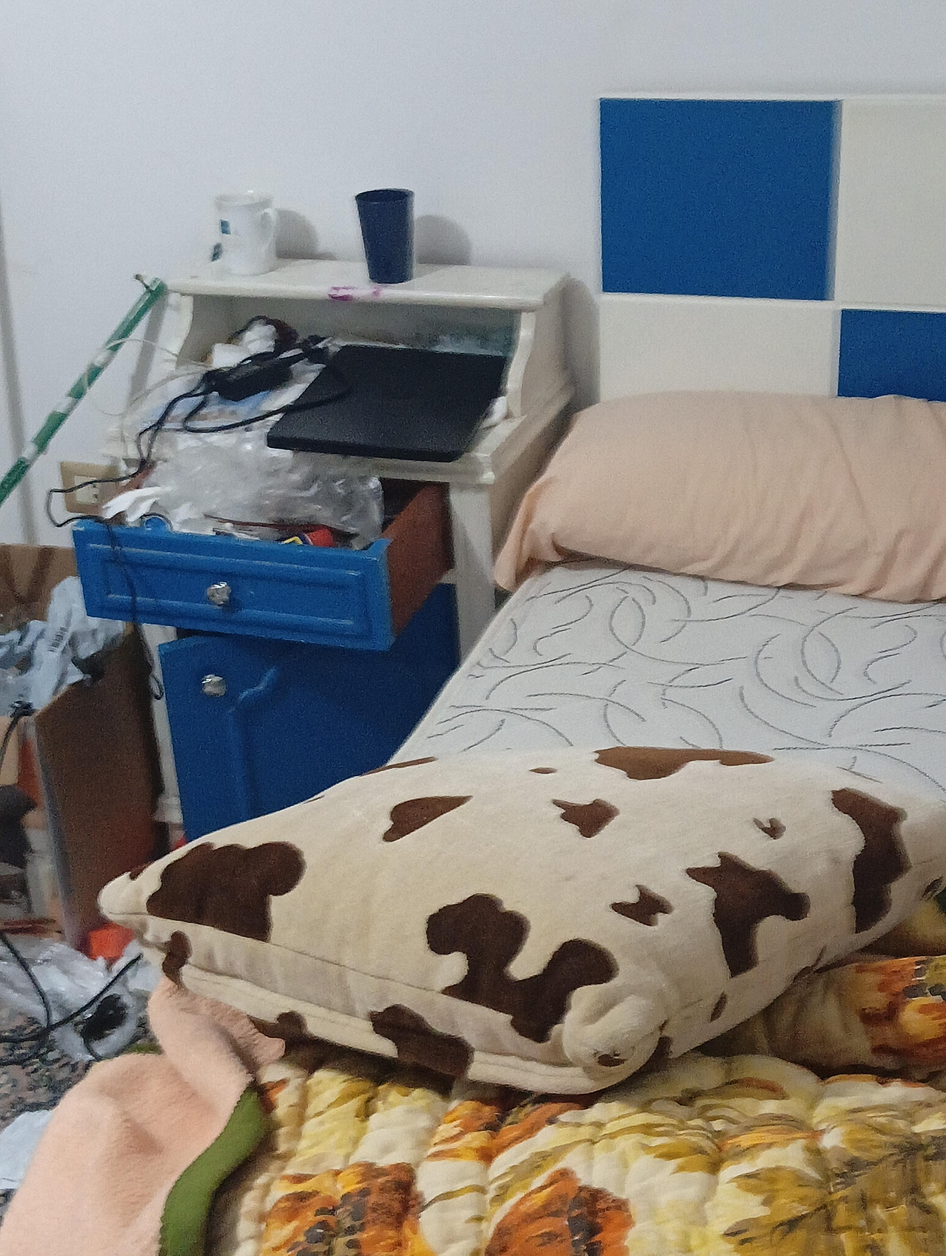cup: (355, 188, 413, 284), (215, 191, 277, 275)
